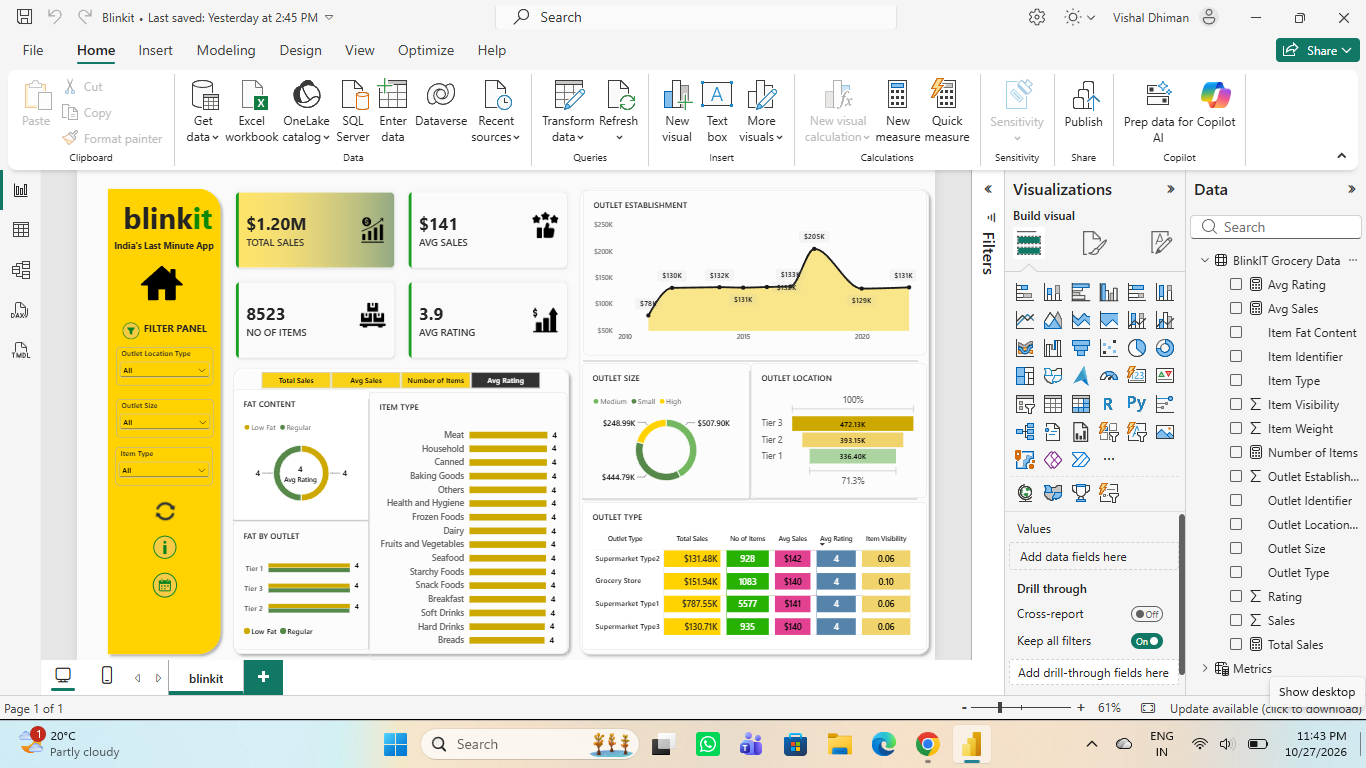

This screenshot's page, from the dashboard's own definition file:
{"tool":"powerbi","page":{"name":"blinkit","canvas":[1400,800],"ordinal":0},"visuals":[{"type":"shape","box":[41.4,21.4,202.9,778.6],"z":0},{"type":"textbox","box":[52.2,44.1,192.7,68.6],"z":1000},{"type":"textbox","box":[52.2,112.7,179.6,44.1],"z":2000},{"type":"shape","box":[245.7,315.7,565.7,484.3],"z":3000},{"type":"donutChart","title":"FAT CONTENT","fields":{"Category":["BlinkIT Grocery Data.Item Fat Content"],"Y":["BlinkIT Grocery Data.Avg Rating"]},"box":[254.3,357.1,222.9,215.7],"z":4000},{"type":"slicer","fields":{"Values":["Metrics .Metrics "]},"box":[280,328.6,494.3,28.6],"z":5000},{"type":"cardVisual","fields":{"Data":["BlinkIT Grocery Data.Avg Rating"]},"box":[321.6,478.4,86.5,35.9],"z":6000},{"type":"clusteredBarChart","title":"FAT BY OUTLET","fields":{"Category":["BlinkIT Grocery Data.Outlet Location Type"],"Series":["BlinkIT Grocery Data.Item Fat Content"],"Y":["BlinkIT Grocery Data.Avg Rating"]},"box":[254.3,572.9,222.9,210],"z":7000},{"type":"shape","box":[254.3,560,222.9,24.3],"z":8000},{"type":"shape","box":[470,374.3,12.9,408.6],"z":9000},{"type":"barChart","title":"ITEM TYPE","fields":{"Category":["BlinkIT Grocery Data.Item Type"],"Y":["BlinkIT Grocery Data.Avg Rating"]},"box":[477.1,362.9,324.3,437.1],"z":10000},{"type":"shape","box":[811.4,21.4,588.6,778.6],"z":11000},{"type":"lineChart","title":"OUTLET ESTABLISHMENT","fields":{"Category":["BlinkIT Grocery Data.Outlet Establishment Year"],"Y":["BlinkIT Grocery Data.Total Sales"]},"box":[825.7,32.9,561.4,270],"z":12000},{"type":"shape","box":[825.7,288.6,547.1,45.7],"z":13000},{"type":"donutChart","title":"OUTLET SIZE","fields":{"Category":["BlinkIT Grocery Data.Outlet Size"],"Y":["BlinkIT Grocery Data.Total Sales"]},"box":[824.3,315.7,275,225],"z":14000},{"type":"shape","box":[1092.9,328.6,12.9,208.6],"z":15000},{"type":"funnel","title":"OUTLET LOCATION","fields":{"Category":["BlinkIT Grocery Data.Outlet Location Type"],"Y":["Sum(BlinkIT Grocery Data.Sales)"]},"box":[1100,315.7,287.1,220],"z":16000},{"type":"shape","box":[824.3,514.3,547.1,45.7],"z":17000},{"type":"pivotTable","title":"OUTLET TYPE","fields":{"Rows":["BlinkIT Grocery Data.Outlet Type"],"Values":["BlinkIT Grocery Data.Total Sales","BlinkIT Grocery Data.Number of Items","BlinkIT Grocery Data.Avg Sales","BlinkIT Grocery Data.Avg Rating","Avg(BlinkIT Grocery Data.Item Visibility)"]},"box":[824.3,541.4,562.9,241.4],"z":18000},{"type":"slicer","fields":{"Values":["BlinkIT Grocery Data.Outlet Location Type"]},"box":[64.3,288.6,158.6,62.9],"z":19000},{"type":"slicer","fields":{"Values":["BlinkIT Grocery Data.Outlet Size"]},"box":[62.9,374.3,160,62.9],"z":20000},{"type":"slicer","fields":{"Values":["BlinkIT Grocery Data.Item Type"]},"box":[61.4,451.4,160,62.9],"z":21000},{"type":"textbox","box":[100,248.6,121.4,28.6],"z":22000},{"type":"image","box":[105,596.2,77.5,40],"z":23000},{"type":"image","box":[64.3,248.6,48.6,28.6],"z":24000},{"type":"image","box":[105,656.2,77.5,42.5],"z":25000},{"type":"image","box":[91.4,145.7,94.3,81.4],"z":26000},{"type":"cardVisual","fields":{"Data":["BlinkIT Grocery Data.Total Sales","BlinkIT Grocery Data.Avg Sales","BlinkIT Grocery Data.Number of Items","BlinkIT Grocery Data.Avg Rating"]},"box":[248.2,24.5,565,295],"z":27000},{"type":"actionButton","box":[107.5,526.2,72.5,55],"z":27001}]}

Visuals, with their boxes on the page's 1400x800 design canvas (x1, y1, x2, y2). These are canvas units, not pixel positions in the 1366x768 screenshot, which may show the page scaled, cropped or inside an application window:
shape: pyautogui.locateOnScreen(41, 21, 244, 800)
textbox: pyautogui.locateOnScreen(52, 44, 245, 113)
textbox: pyautogui.locateOnScreen(52, 113, 232, 157)
shape: pyautogui.locateOnScreen(246, 316, 811, 800)
"FAT CONTENT" donutChart: pyautogui.locateOnScreen(254, 357, 477, 573)
slicer - Metrics .Metrics : pyautogui.locateOnScreen(280, 329, 774, 357)
cardVisual - BlinkIT Grocery Data.Avg Rating: pyautogui.locateOnScreen(322, 478, 408, 514)
"FAT BY OUTLET" clusteredBarChart: pyautogui.locateOnScreen(254, 573, 477, 783)
shape: pyautogui.locateOnScreen(254, 560, 477, 584)
shape: pyautogui.locateOnScreen(470, 374, 483, 783)
"ITEM TYPE" barChart: pyautogui.locateOnScreen(477, 363, 801, 800)
shape: pyautogui.locateOnScreen(811, 21, 1400, 800)
"OUTLET ESTABLISHMENT" lineChart: pyautogui.locateOnScreen(826, 33, 1387, 303)
shape: pyautogui.locateOnScreen(826, 289, 1373, 334)
"OUTLET SIZE" donutChart: pyautogui.locateOnScreen(824, 316, 1099, 541)
shape: pyautogui.locateOnScreen(1093, 329, 1106, 537)
"OUTLET LOCATION" funnel: pyautogui.locateOnScreen(1100, 316, 1387, 536)
shape: pyautogui.locateOnScreen(824, 514, 1371, 560)
"OUTLET TYPE" pivotTable: pyautogui.locateOnScreen(824, 541, 1387, 783)
slicer - BlinkIT Grocery Data.Outlet Location Type: pyautogui.locateOnScreen(64, 289, 223, 352)
slicer - BlinkIT Grocery Data.Outlet Size: pyautogui.locateOnScreen(63, 374, 223, 437)
slicer - BlinkIT Grocery Data.Item Type: pyautogui.locateOnScreen(61, 451, 221, 514)
textbox: pyautogui.locateOnScreen(100, 249, 221, 277)
image: pyautogui.locateOnScreen(105, 596, 182, 636)
image: pyautogui.locateOnScreen(64, 249, 113, 277)
image: pyautogui.locateOnScreen(105, 656, 182, 699)
image: pyautogui.locateOnScreen(91, 146, 186, 227)
cardVisual - BlinkIT Grocery Data.Total Sales x BlinkIT Grocery Data.Avg Sales: pyautogui.locateOnScreen(248, 24, 813, 320)
actionButton: pyautogui.locateOnScreen(108, 526, 180, 581)
